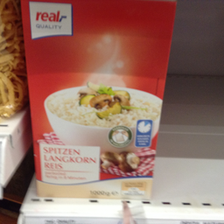rice: (20, 1, 177, 202)
